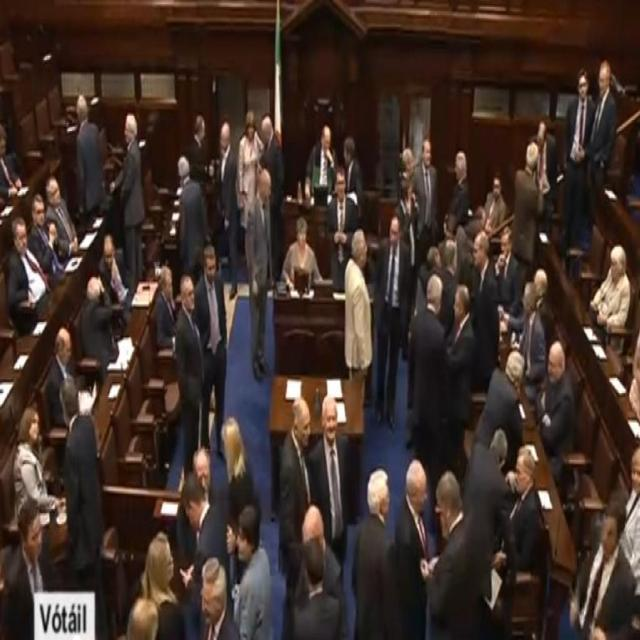nomask: (28, 514, 42, 556), (602, 516, 614, 557), (196, 458, 208, 497), (414, 472, 426, 511), (298, 408, 310, 444), (202, 581, 212, 623), (324, 404, 336, 439), (630, 458, 640, 492), (515, 454, 524, 491), (237, 530, 248, 560), (184, 502, 196, 527), (184, 281, 194, 309), (547, 353, 557, 381), (166, 543, 173, 579), (18, 225, 27, 253), (62, 333, 70, 363), (29, 413, 38, 439), (358, 235, 366, 264), (50, 182, 60, 204), (598, 66, 606, 92), (454, 158, 464, 178), (452, 293, 459, 321), (336, 175, 344, 199), (578, 76, 586, 98), (36, 202, 44, 224), (104, 244, 112, 266), (522, 288, 530, 310), (382, 485, 388, 514), (207, 258, 214, 282), (474, 240, 481, 262), (501, 234, 508, 256), (406, 183, 413, 205), (405, 156, 413, 174), (390, 220, 396, 243), (298, 229, 306, 246), (322, 131, 329, 150), (265, 176, 271, 198), (424, 142, 430, 164), (533, 276, 539, 298), (220, 126, 226, 147), (493, 177, 499, 197), (124, 121, 130, 141), (610, 260, 616, 278), (537, 130, 543, 148), (166, 275, 170, 295), (200, 120, 204, 139), (262, 125, 266, 142), (343, 147, 347, 164), (248, 126, 252, 139)
